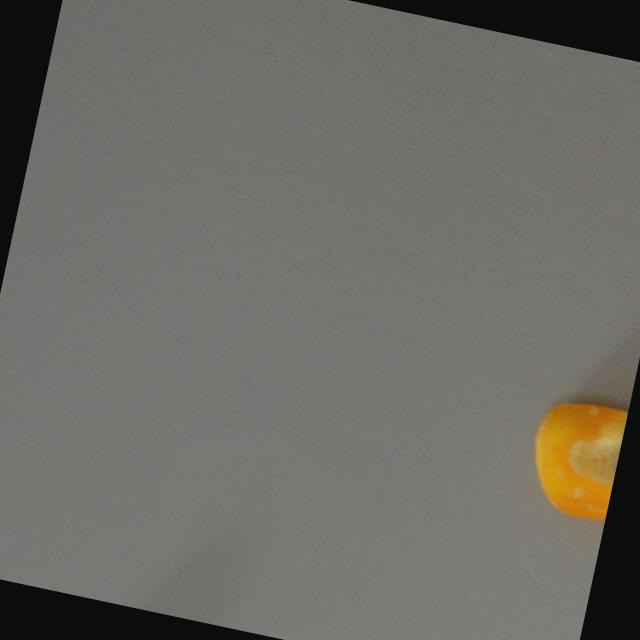pelicula: (519, 390, 628, 523)
